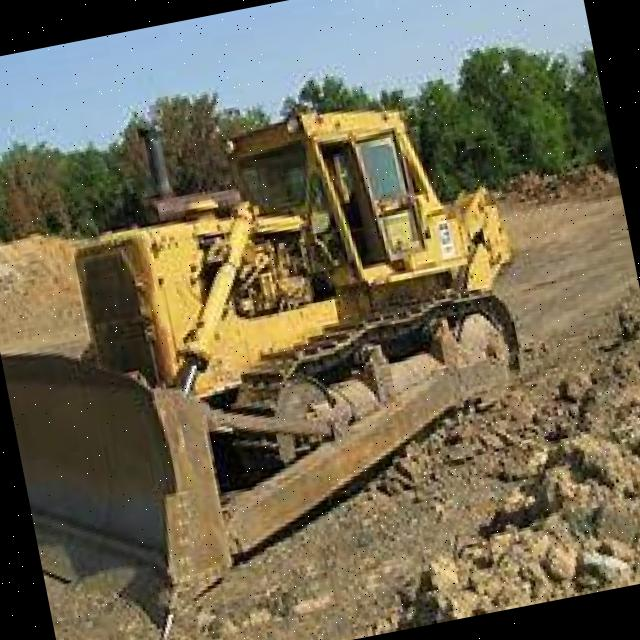Bulldozer: (0, 47, 592, 635)
